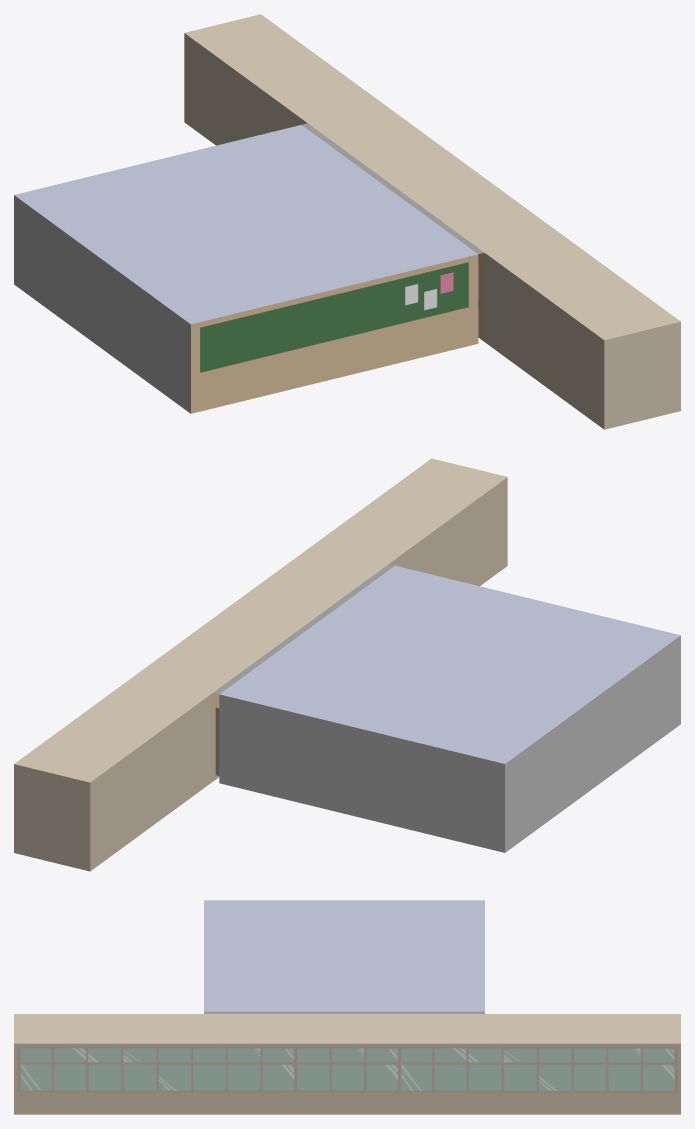
The model's file is kyusitu_7.fbx.
3 renders of one model, top to bottom at view 1: azimuth 30°, elevation 25°; view 2: azimuth 150°, elevation 25°; view 3: azimuth 270°, elevation 25°, orthographic. The views are drawn at different scales.
Parts seen in each view (by area): view 1: pCube2, tenjou, polySurface5; view 2: pCube2, tenjou, polySurface5; view 3: pCube2, tenjou, polySurface5.
Part boxes in pixels (bbox=[...]): pCube2: bbox=[184, 14, 680, 429]; tenjou: bbox=[14, 125, 477, 324]; polySurface5: bbox=[14, 123, 484, 413]; pCube2: bbox=[14, 458, 507, 871]; tenjou: bbox=[220, 565, 680, 763]; polySurface5: bbox=[213, 564, 680, 852]; pCube2: bbox=[14, 1014, 680, 1114]; tenjou: bbox=[204, 900, 484, 1011]; polySurface5: bbox=[204, 1011, 484, 1013].
Bounding box in the file's own units: 29.49 × 6.8 × 57.9.
